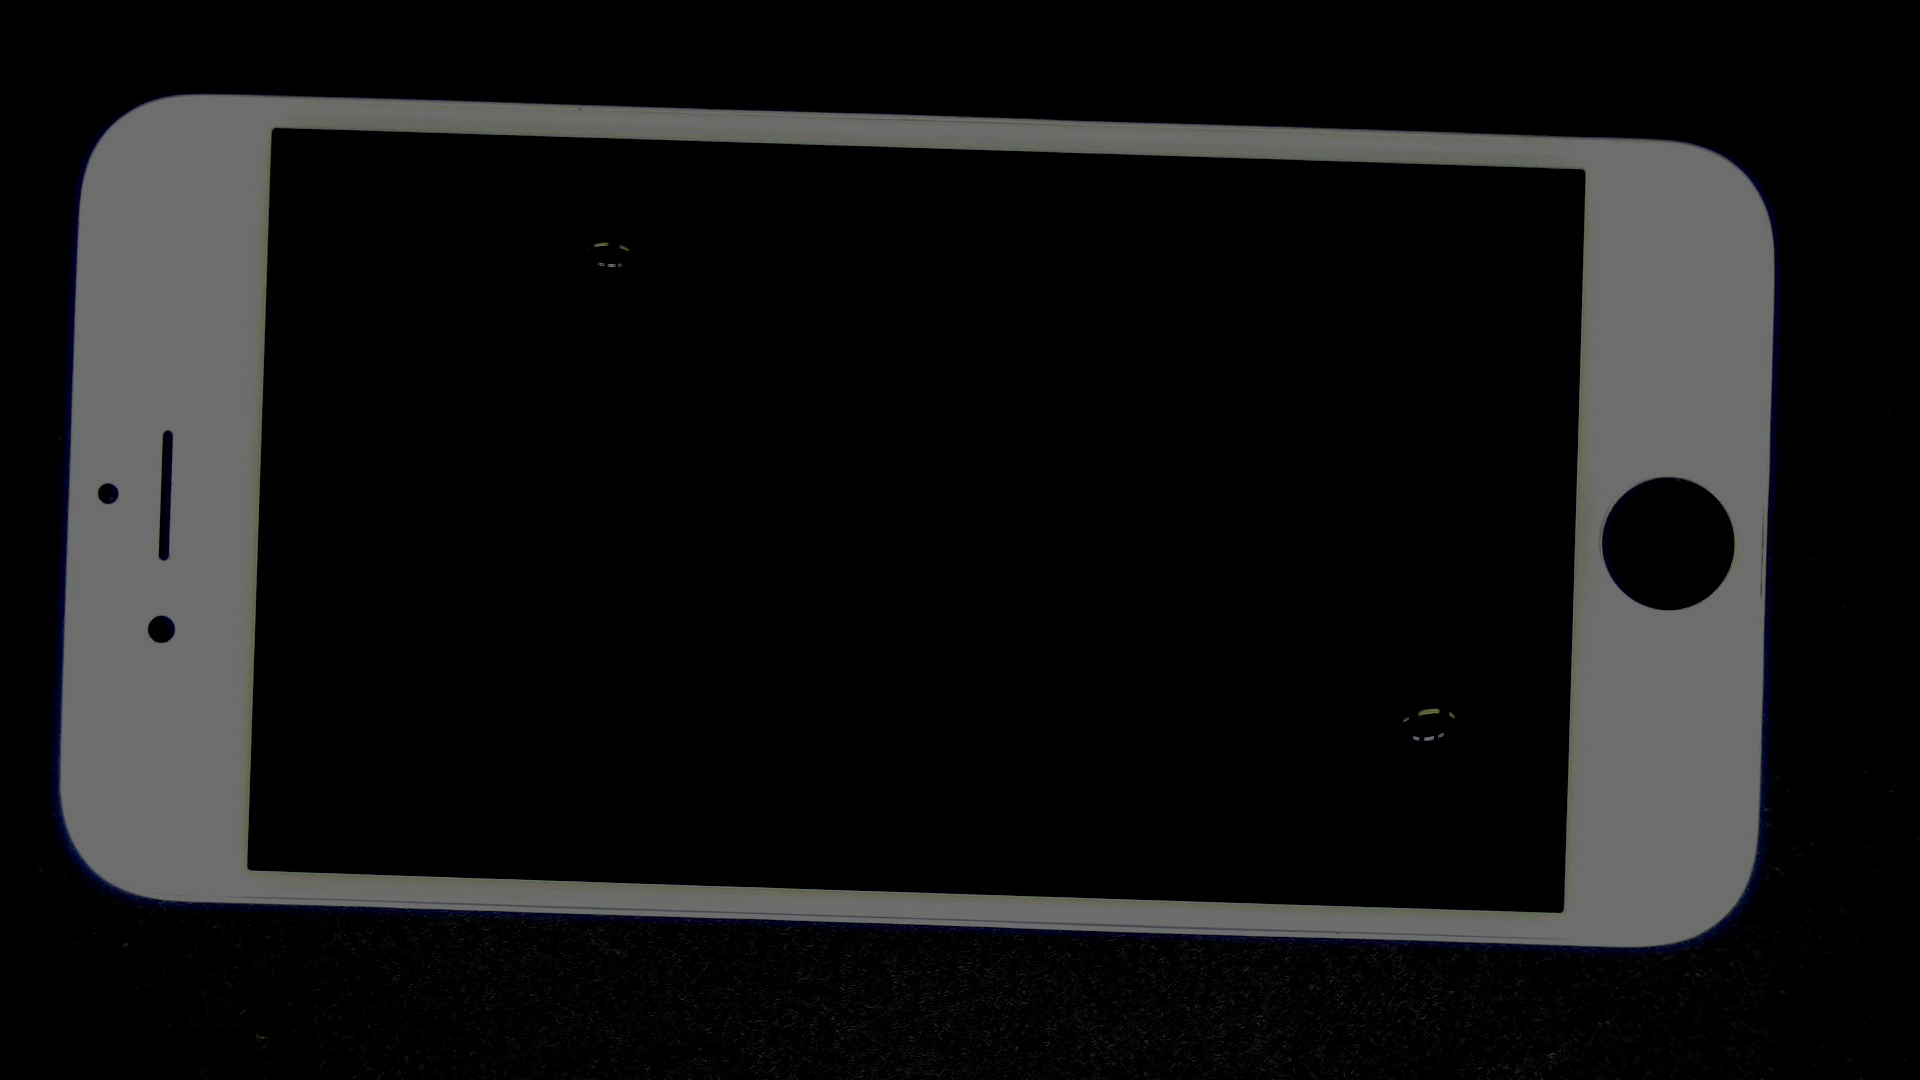oil: (719, 347, 1920, 1043), (305, 120, 911, 360)
